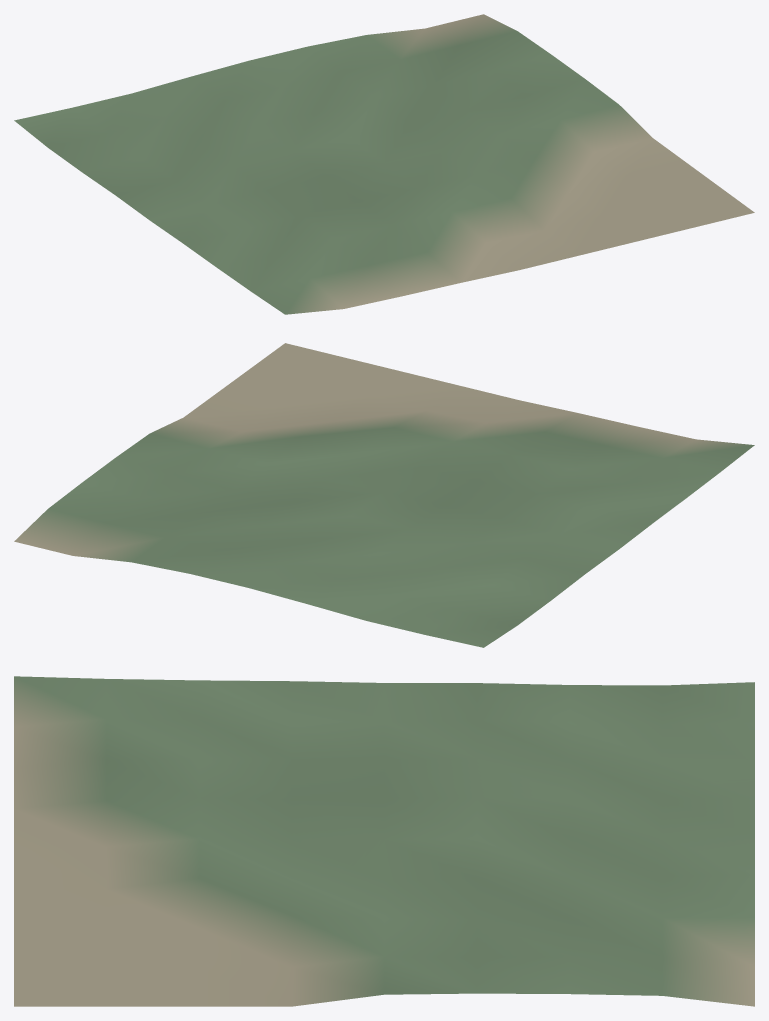
3 renders of one model, top to bottom at view 1: azimuth 30°, elevation 25°; view 2: azimuth 150°, elevation 25°; view 3: azimuth 270°, elevation 25°, orthographic. The views are drawn at different scales.
Visible parts, largest first — view 1: Lo; view 2: Lo; view 3: Lo.
Part boxes in pixels (box(x1,y1,x2,y2)): Lo: box(14, 14, 754, 314); Lo: box(14, 343, 754, 647); Lo: box(14, 676, 754, 1006).
Bounding box in the file's own units: 256 × 6.55 × 256.
